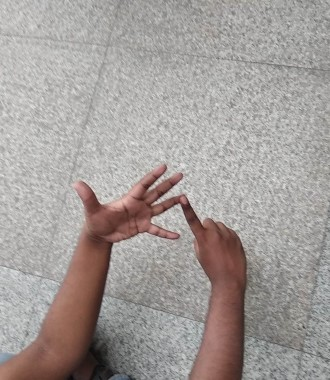e: (73, 155, 237, 263)
